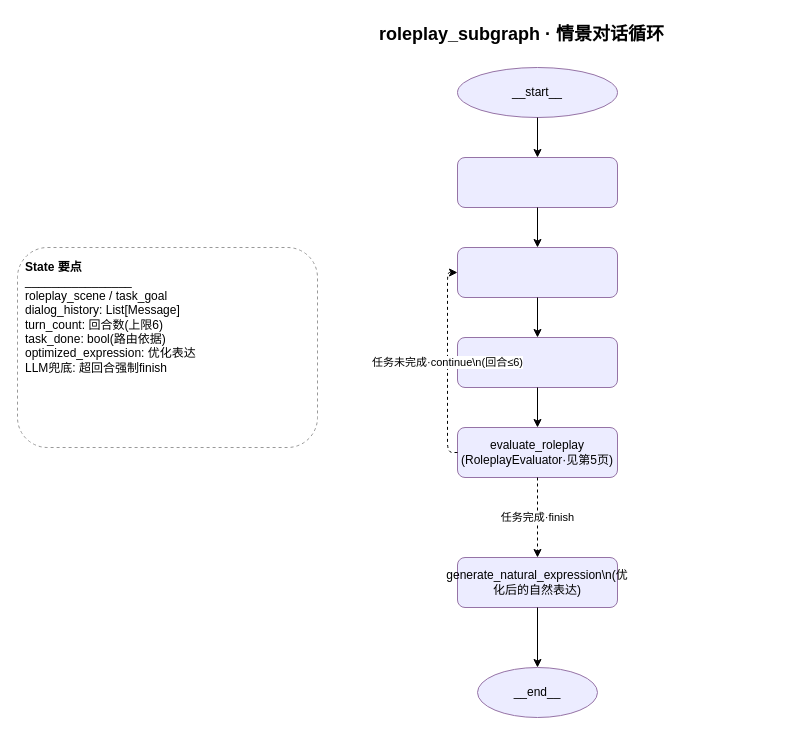
The diagram is 795 pixels wide and 735 high, and some of its shapes have lost their labels. Here are the shapes that lost their labels. From the top down, the centre of each, then its label:
At point (537, 182): "enter_roleplay\n(载入场景/角色设定)".
At point (537, 272): "ai_speak\n(AI扮演角色发言)".
At point (537, 362): "wait_user_response (interrupt)".
